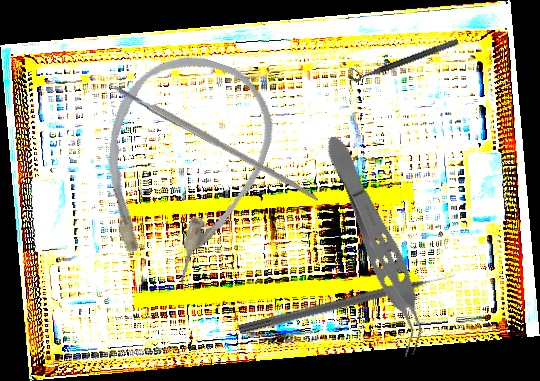Cannula: (72, 37, 290, 298)
Fixation Ring: (345, 29, 460, 85)
Pusher: (237, 270, 458, 337)
Scalpel Handle: (110, 80, 322, 204)
Tissue Forceps: (313, 130, 441, 359)
